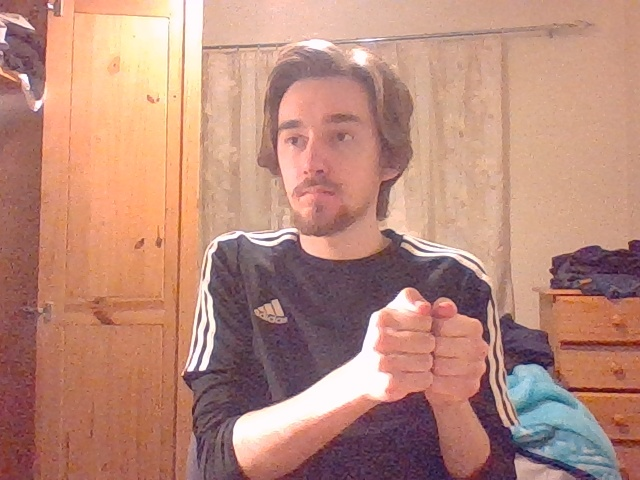brother: (371, 287, 489, 401)
